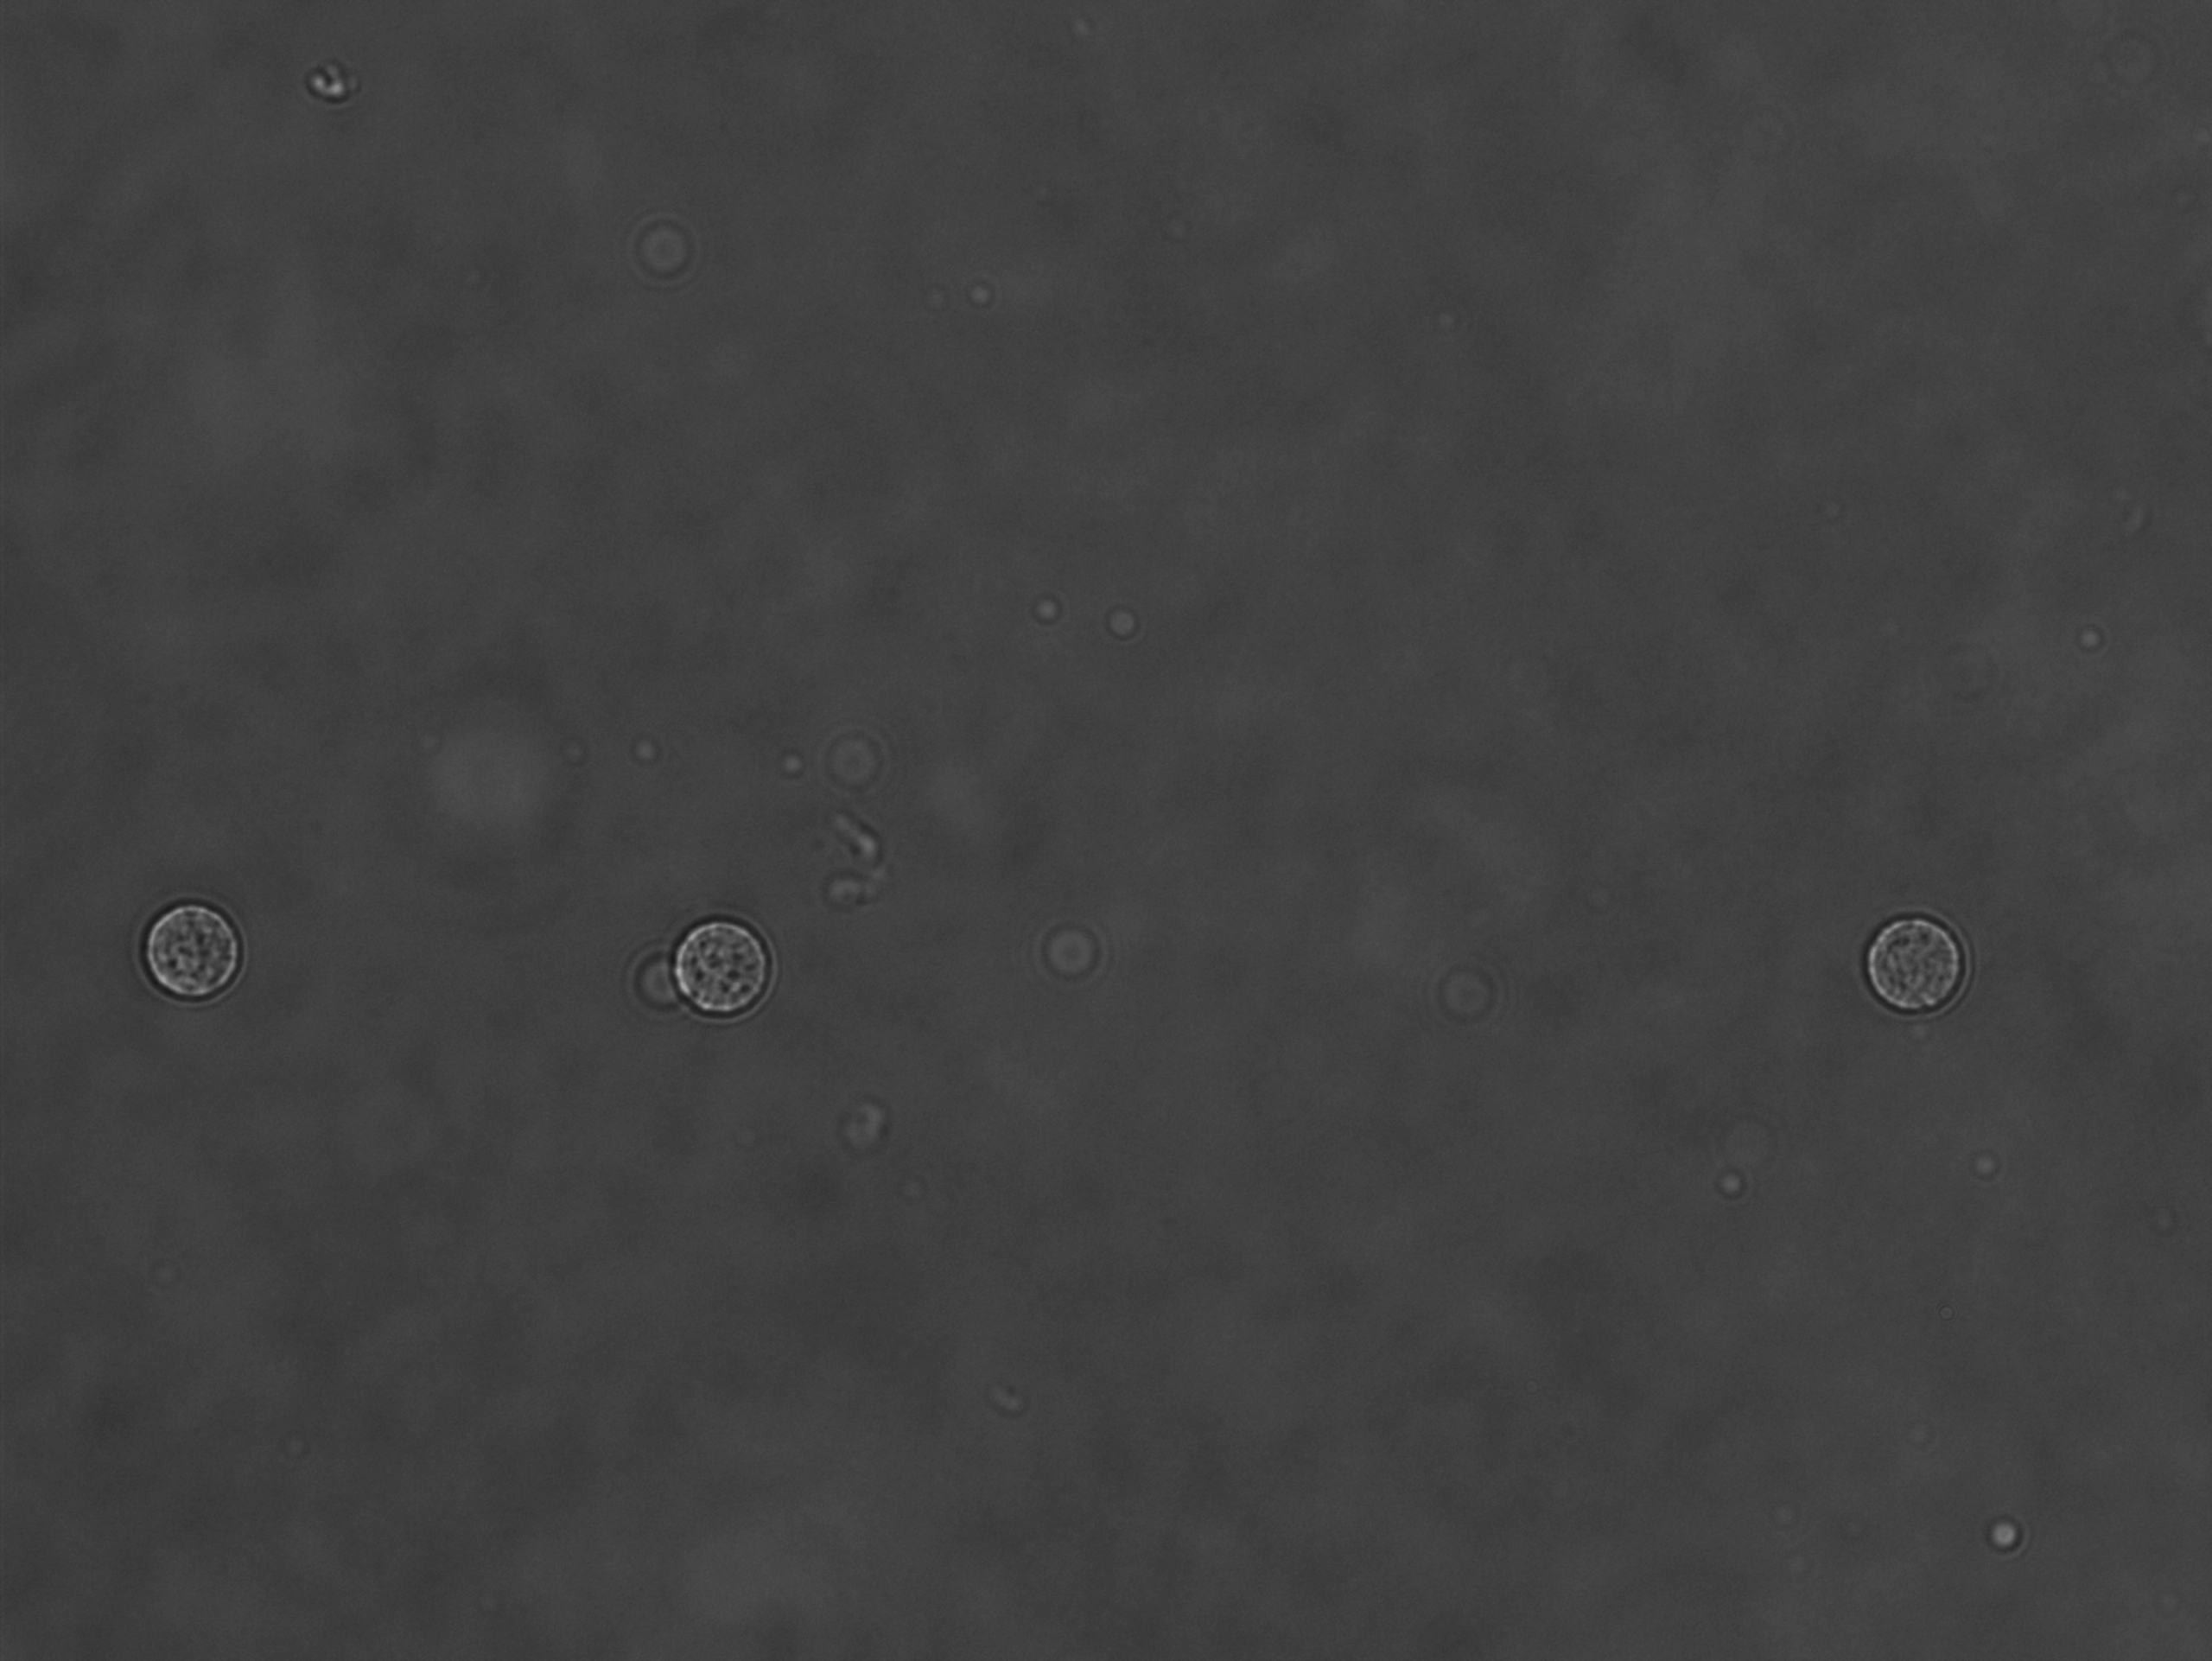depth:0: (654, 892, 790, 1042), (1853, 893, 1985, 1033), (127, 883, 269, 1008)
